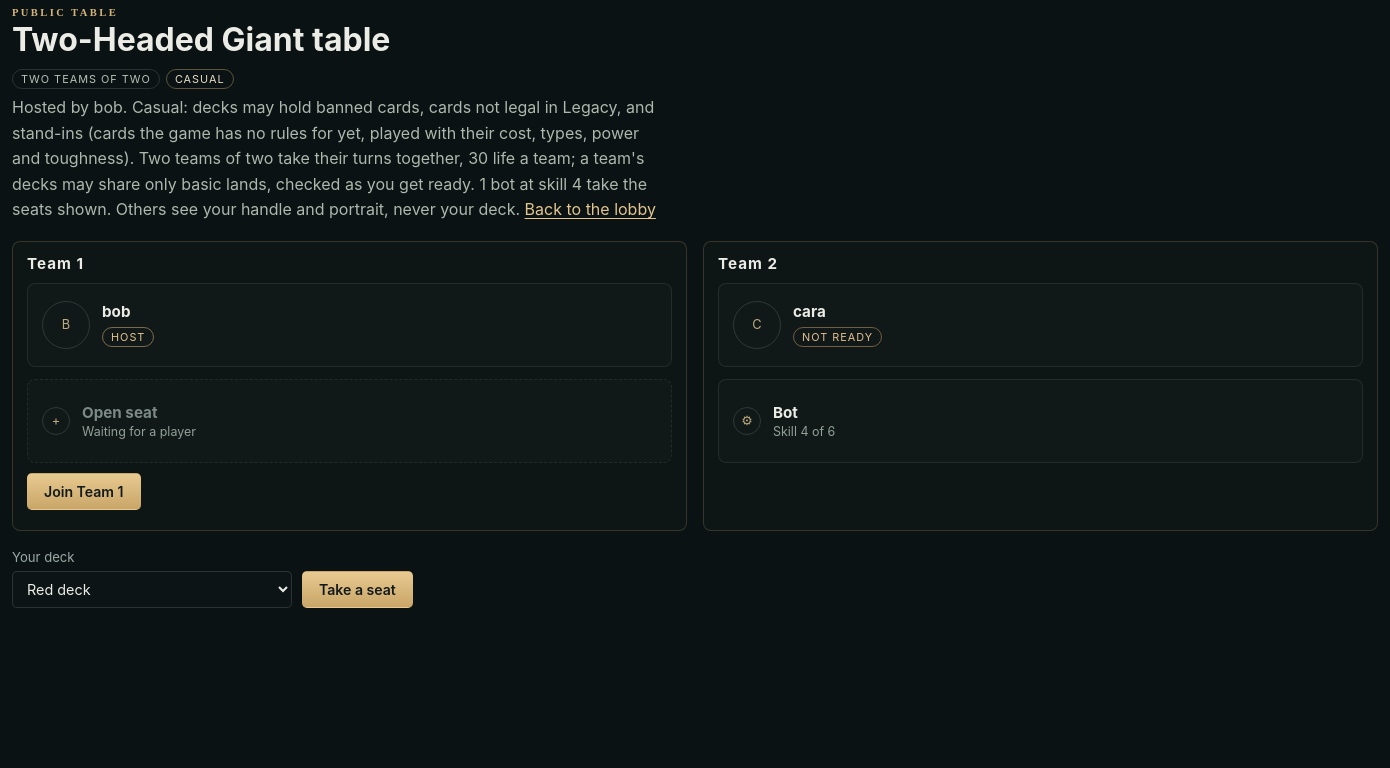
it: Two-Headed Giant at a table (v0.5.1) › seats a player in the team they choose, moves them, and says why they are not ready
Expected: the heading "Two-Headed Giant table" is shown, 12,20 -> 390,59
Expected: the text "bob" is shown, 102,302 -> 130,322
Click the button "Join Team 1": click(84, 492) 27,473 -> 140,510
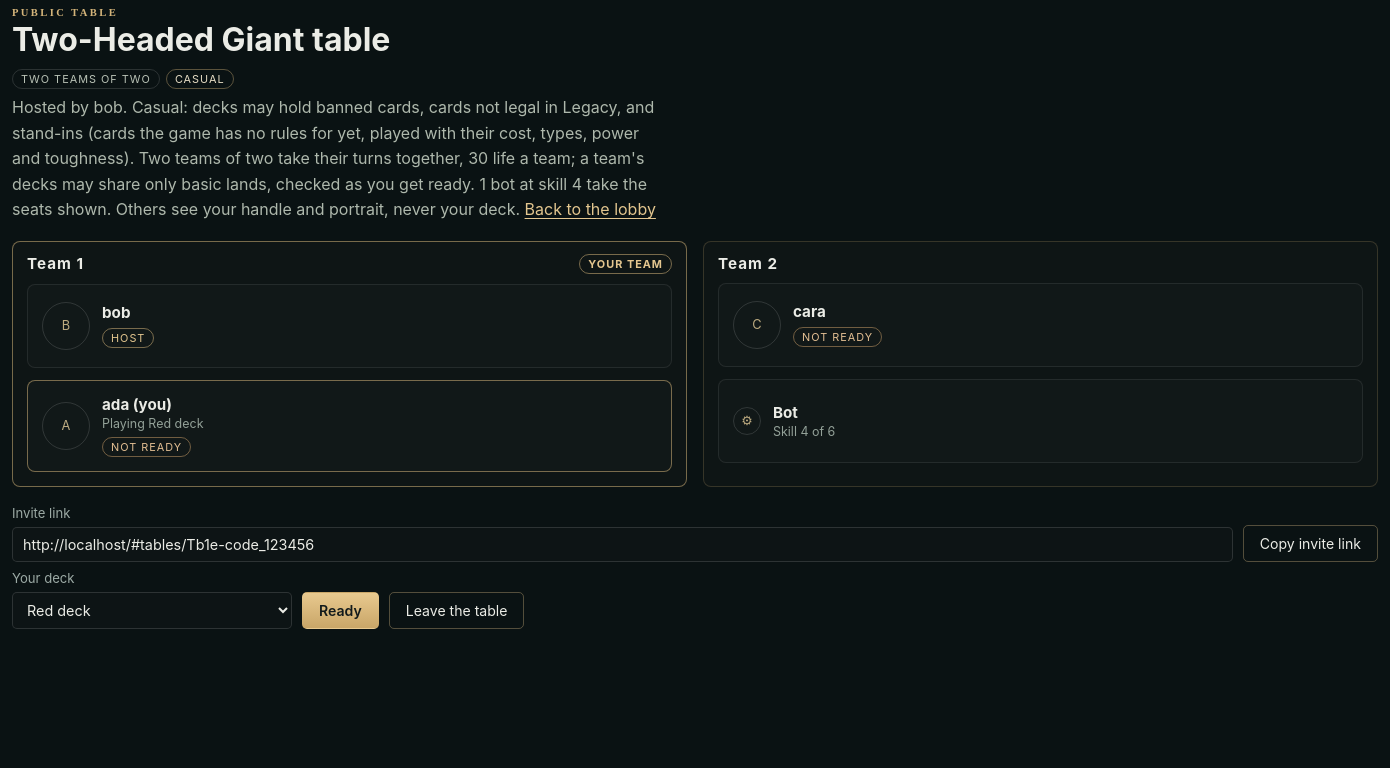
Result: the element "Team 1 Your team" is shown at 12,241 -> 687,487
Click the button "Ready": click(340, 610) 302,592 -> 379,629
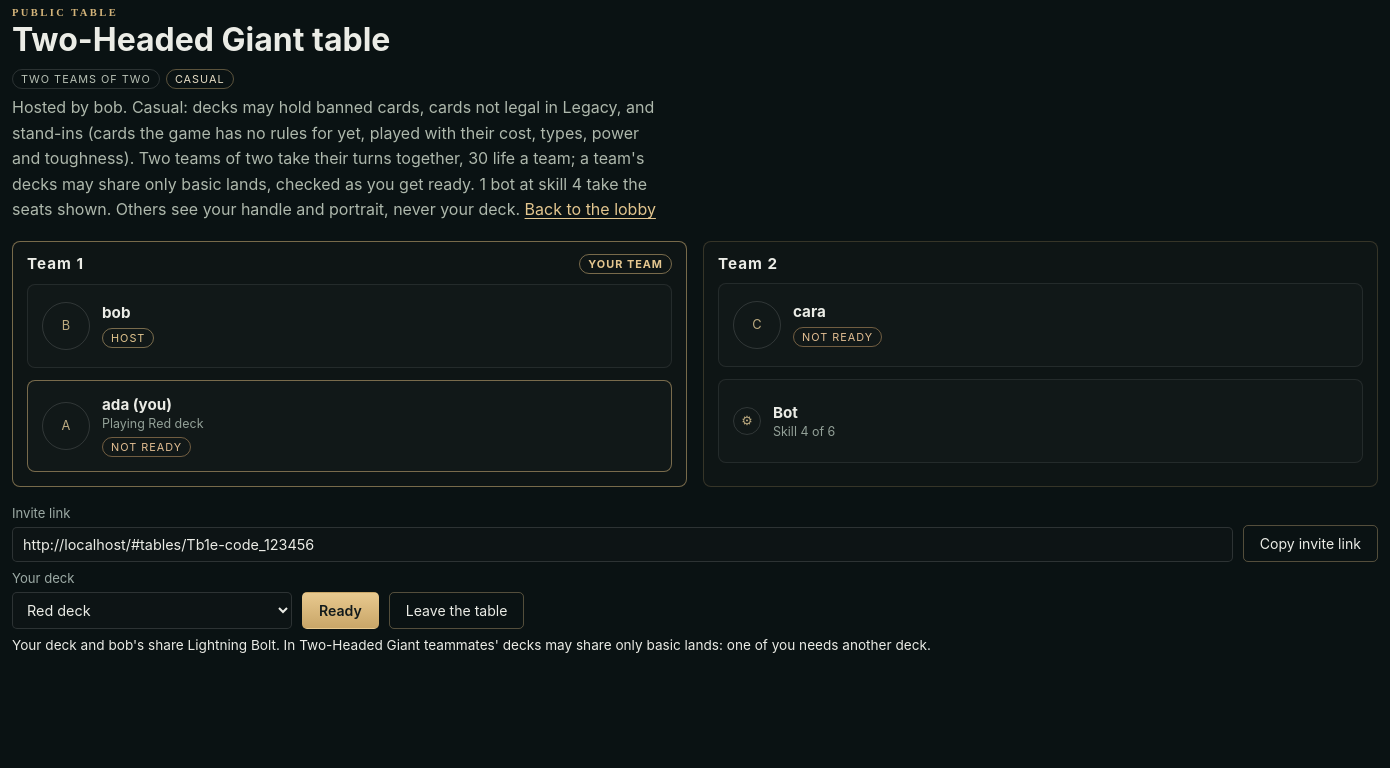
Result: the message shows "Your deck and bob's share Lightning Bolt." at 12,637 -> 931,653
